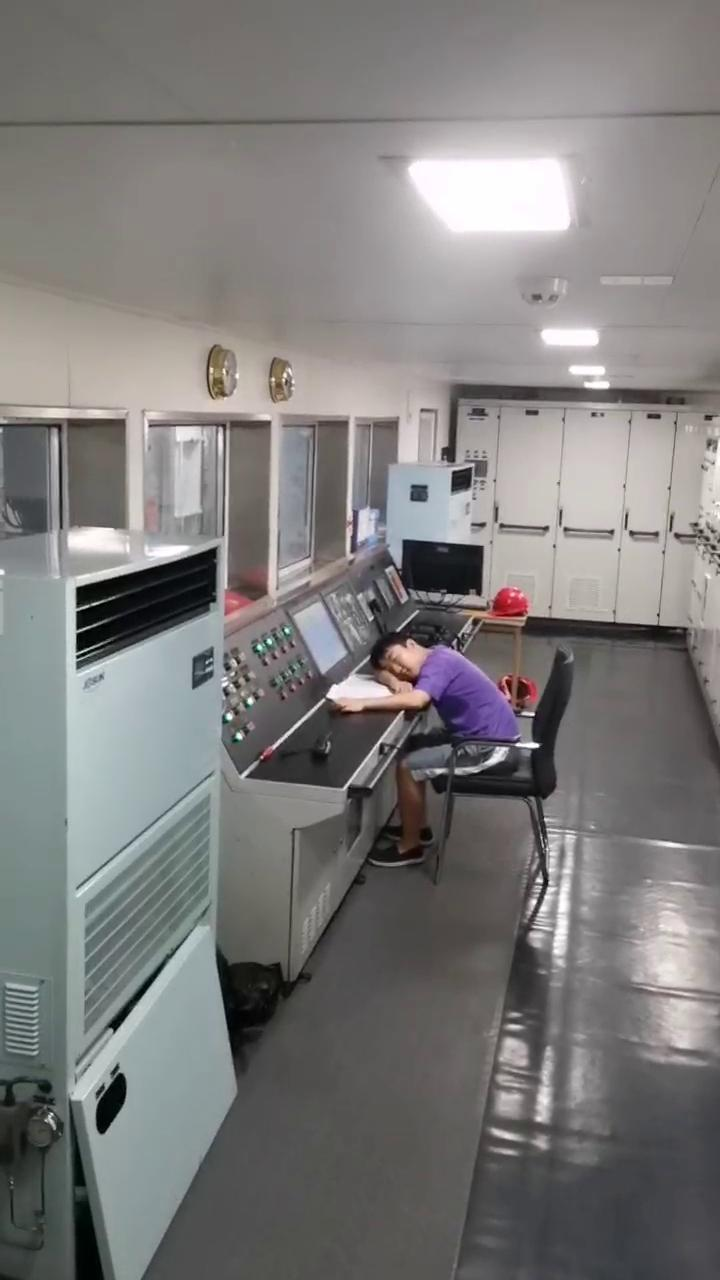sleep: (322, 634, 539, 774)
